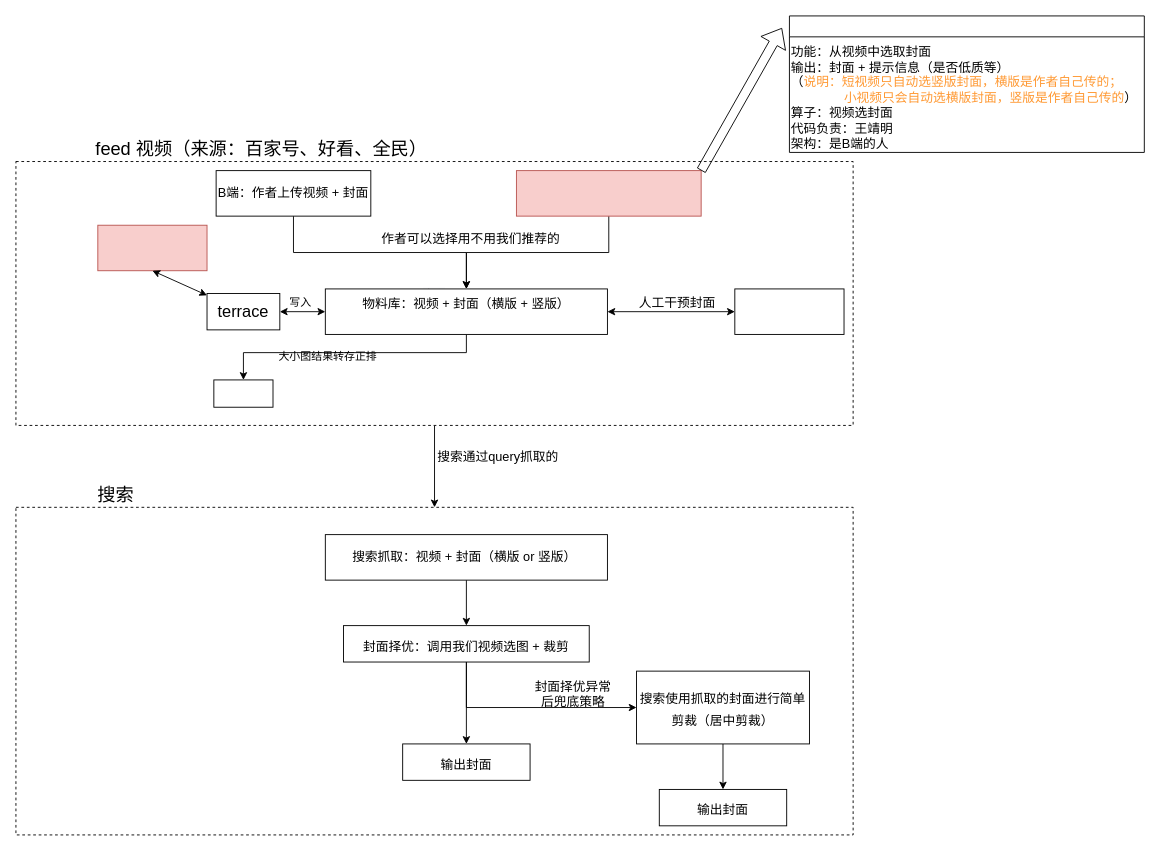
Image size: 1169x851. Some labels were removed from this diagram. The box of each missing label's shape, as (x1, y1, x2, y2) in pixels:
B端封面推荐（横版+竖版）: (516, 170, 701, 216)
功能说明: (789, 15, 1144, 152)
大小图策略：出大图还是小图: (97, 224, 207, 271)
审核平台: (734, 288, 844, 334)
正排: (213, 379, 273, 407)
